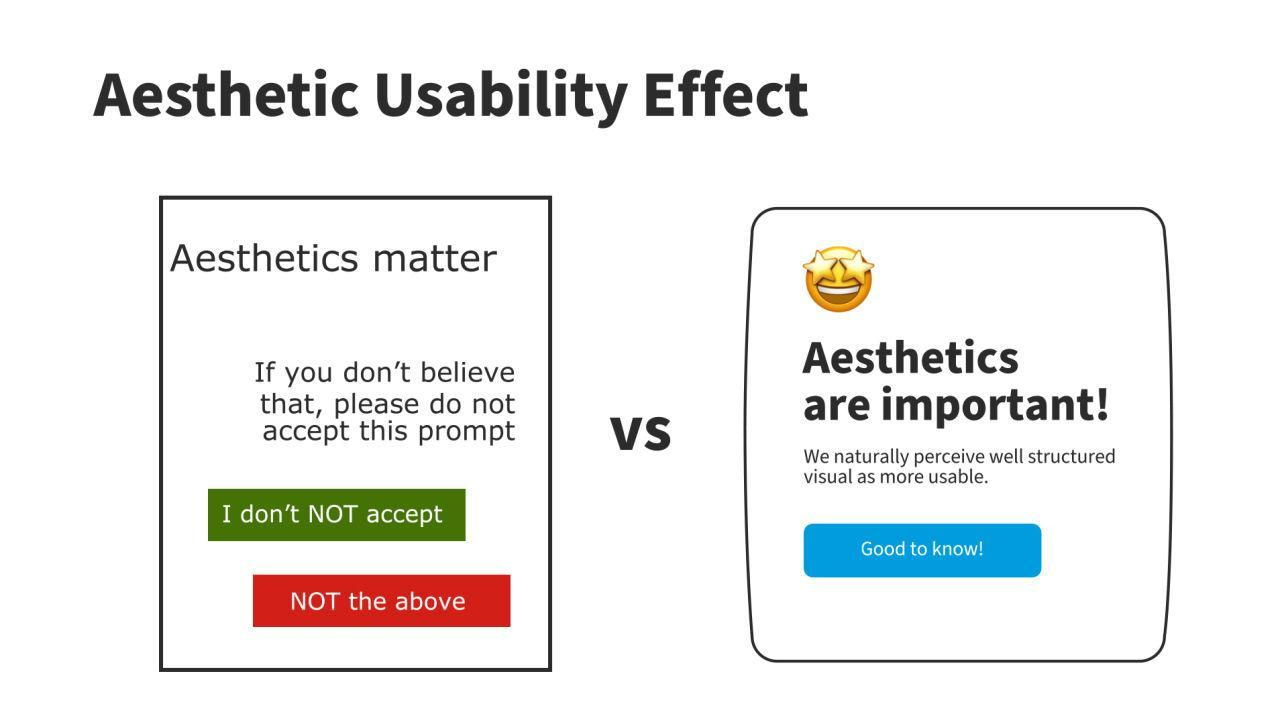button: (253, 575, 512, 629), (207, 490, 468, 542), (804, 525, 1043, 581)
